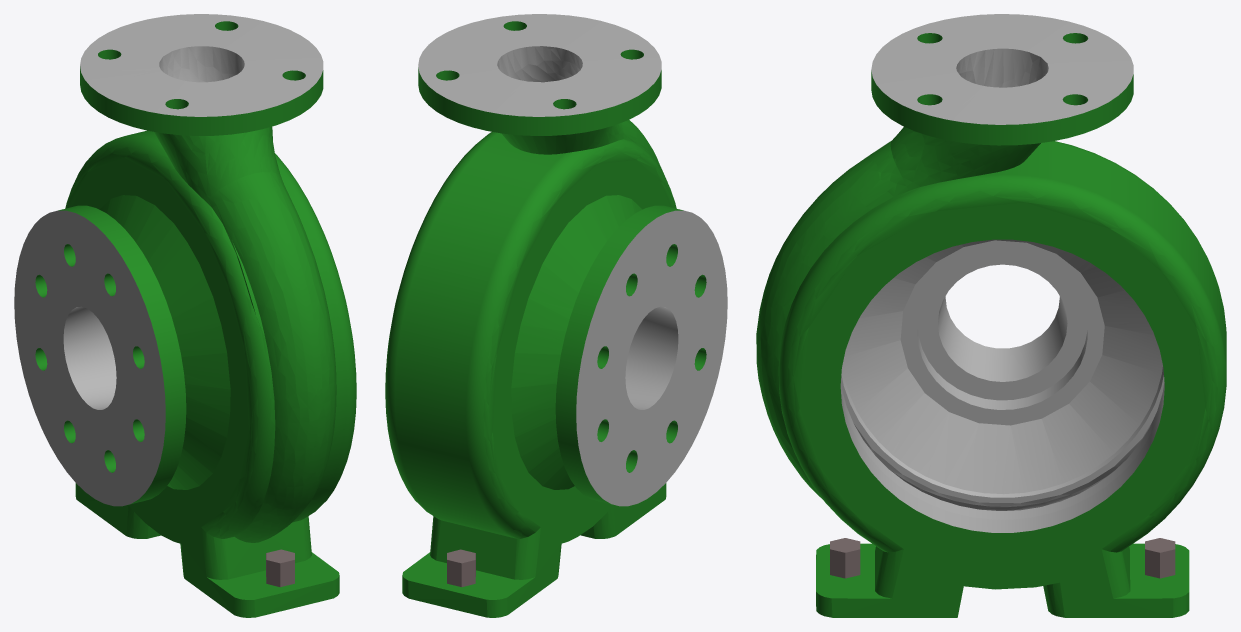
Rendered from Spiralgehause.obj.
3 renders of one model, left to right at view 1: azimuth 30°, elevation 25°; view 2: azimuth 150°, elevation 25°; view 3: azimuth 270°, elevation 25°, orthographic. The views are drawn at different scales.
Parts seen in each view (by area): view 1: Spiralgehause; view 2: Spiralgehause; view 3: Spiralgehause.
Part boxes in pixels (x1,y1,x2,y2): Spiralgehause: (14, 14, 356, 617); Spiralgehause: (385, 14, 727, 617); Spiralgehause: (756, 14, 1226, 617).
Bounding box in the file's own units: 0.1904 × 0.4035 × 0.3311.
